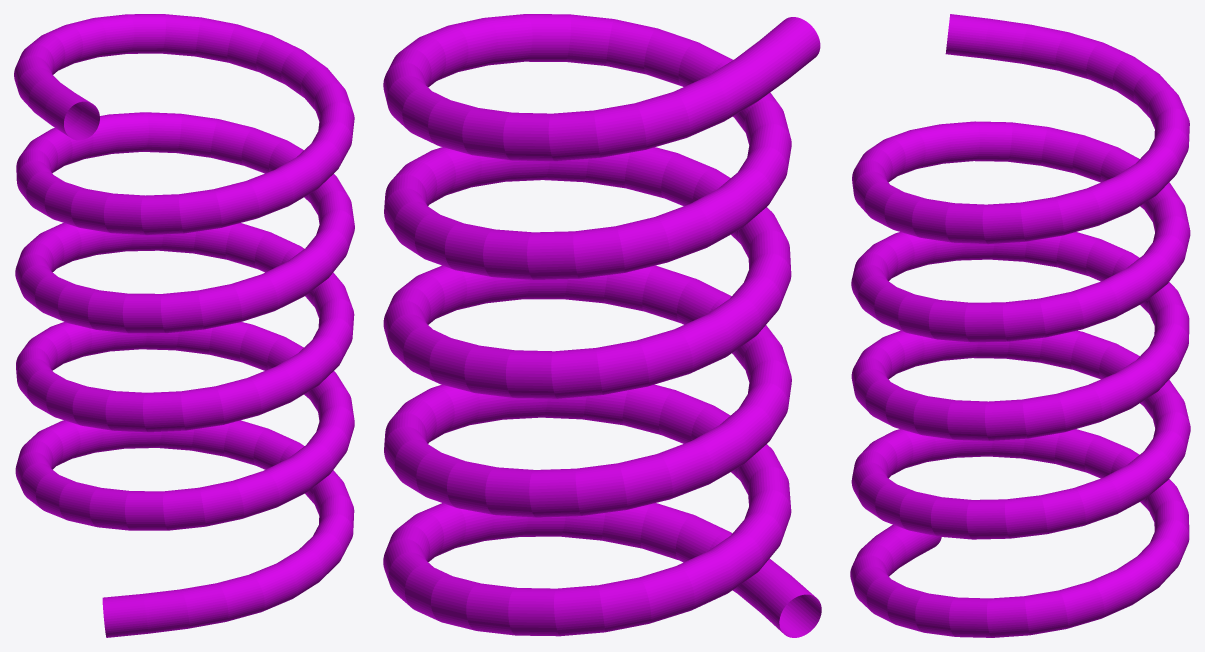
File: Jump Upgrade.fbx
The picture shows the model from 3 angles, left to right: view 1: azimuth 30°, elevation 25°; view 2: azimuth 150°, elevation 25°; view 3: azimuth 270°, elevation 25°; orthographic projection. The views are drawn at different scales.
Parts seen in each view (by area): view 1: Coil; view 2: Coil; view 3: Coil.
Boxes of the visible parts, x1=… form: Coil: x1=14, y1=14, x2=354, y2=637; Coil: x1=383, y1=14, x2=821, y2=637; Coil: x1=850, y1=14, x2=1190, y2=637.
Size of the model in its own units: 1.99 by 1.93 by 3.29.
